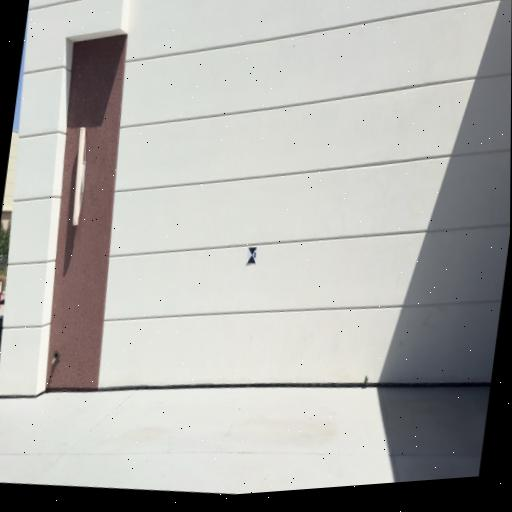target0: (245, 247, 258, 266)
